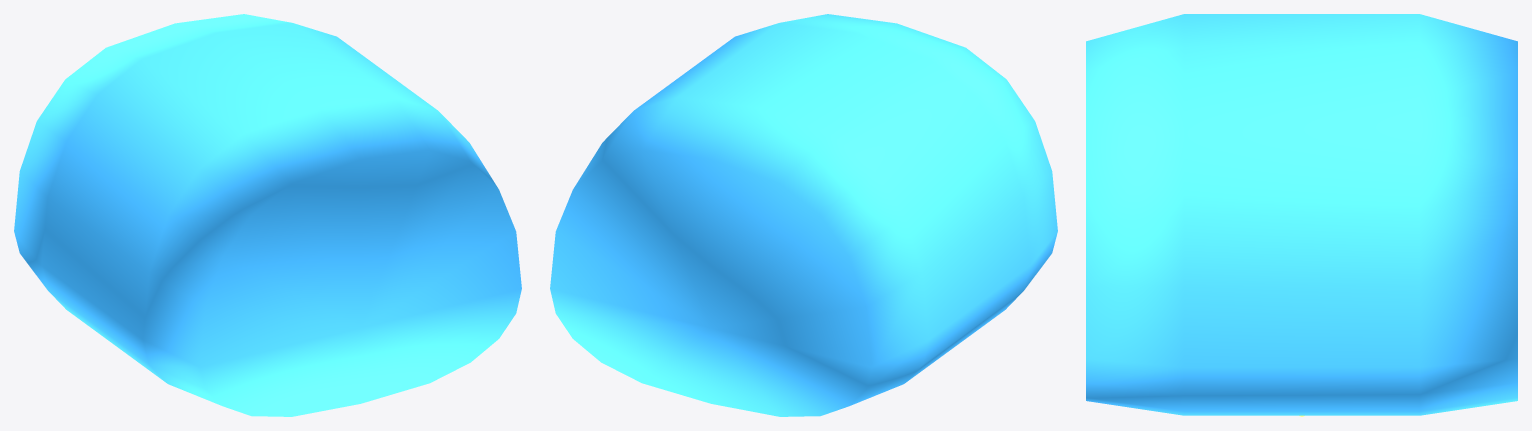
Rendered from itembox.glb.
3 renders of one model, left to right at view 1: azimuth 30°, elevation 25°; view 2: azimuth 150°, elevation 25°; view 3: azimuth 270°, elevation 25°, orthographic. The views are drawn at different scales.
Visible parts, largest first — view 1: Shell; view 2: Shell; view 3: Shell.
Part boxes in pixels (x1,y1,x2,y2): Shell: [14, 14, 521, 416]; Shell: [550, 14, 1057, 416]; Shell: [1086, 14, 1517, 415].
Size of the model in its own units: 1.2 by 1.04 by 1.1.
